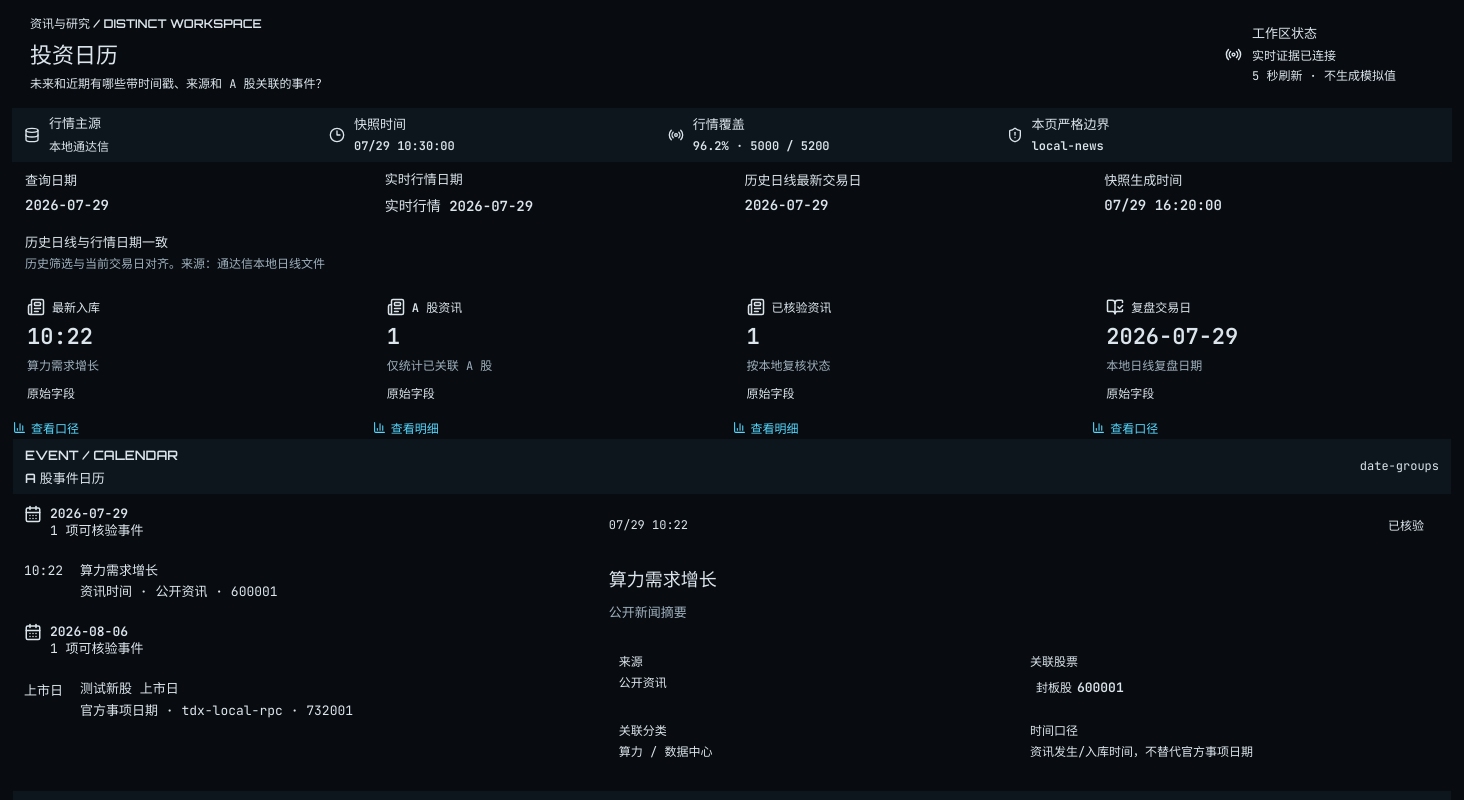
Scenario: DistinctMarketWorkspace › shows official investment dates separately from news timestamps
The width and height of the screenshot is (1464, 800).
Click the button with aria-label "查看事件：测试新股 上市日" at (300, 700), box [13,670,588,731]
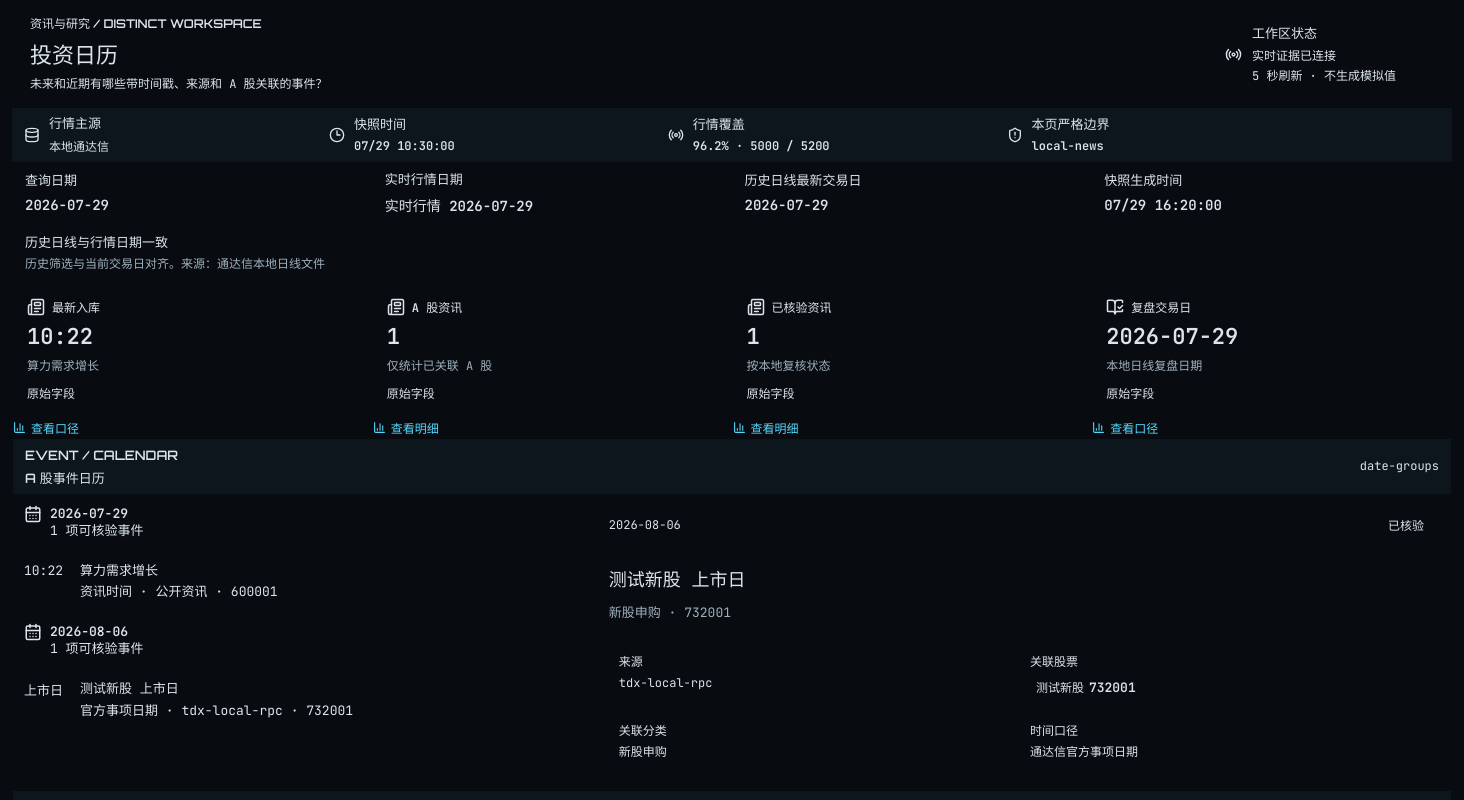
expect the element named "当前事件详情" shows "通达信官方事项日期": met, box [1030,744,1138,760]
expect the element named "当前事件详情" shows "732001": met, box [1089,679,1136,696]
